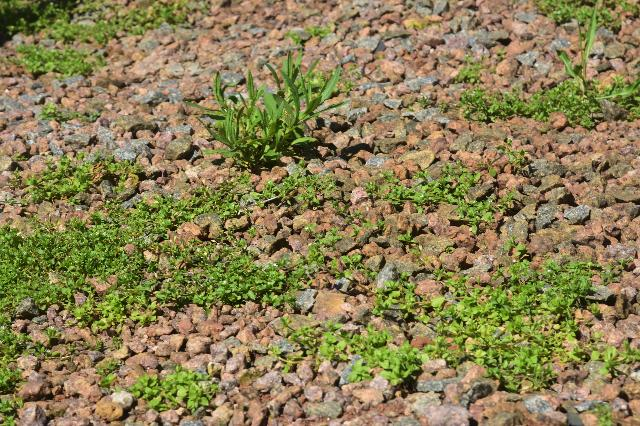MalezaMontesDelPlata: (433, 246, 637, 395), (1, 218, 173, 335), (203, 41, 350, 170), (166, 225, 347, 316), (143, 167, 348, 232), (263, 314, 433, 386), (3, 145, 159, 216), (366, 159, 518, 231), (443, 72, 640, 123), (0, 0, 218, 36), (4, 36, 119, 83), (117, 365, 230, 412)
